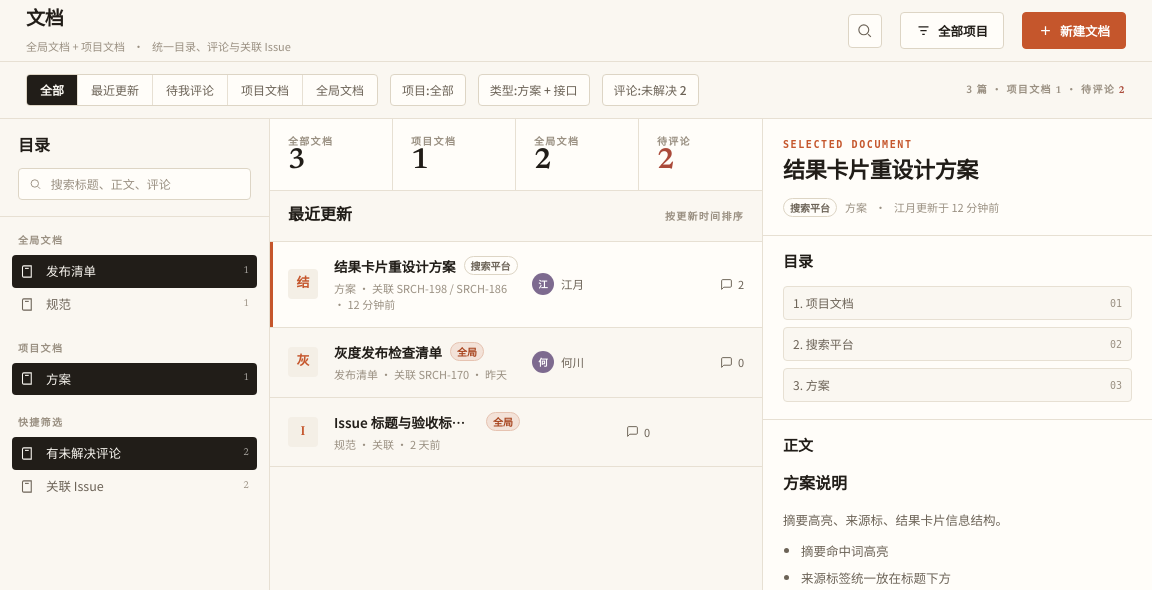
Test case: DocsPage › selects documents from the list and directory tree
Step 1. Click the button with aria-label "打开文档 灰度发布检查清单" → (388, 352), box x1=270 y1=328 x2=762 y2=398
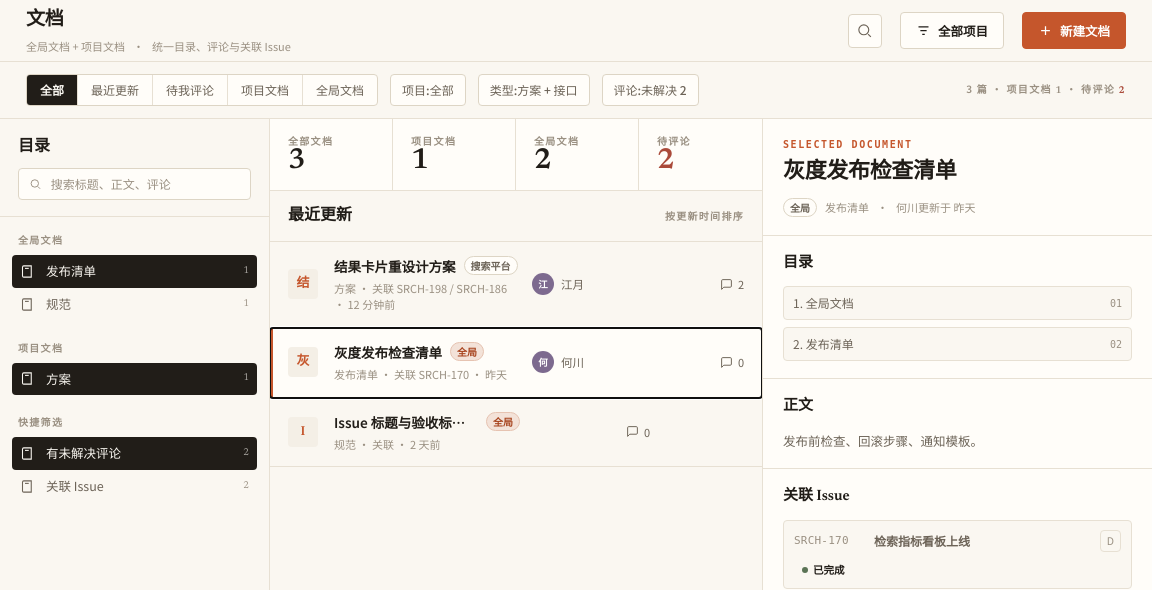
Expected: the heading "灰度发布检查清单" is shown, x1=783 y1=162 x2=956 y2=184
Expected: the text "发布前检查、回滚步骤、通知模板。" is shown, x1=783 y1=430 x2=983 y2=450
Step 2. Click the button with aria-label "打开目录 规范" → (134, 304), box x1=12 y1=288 x2=257 y2=321
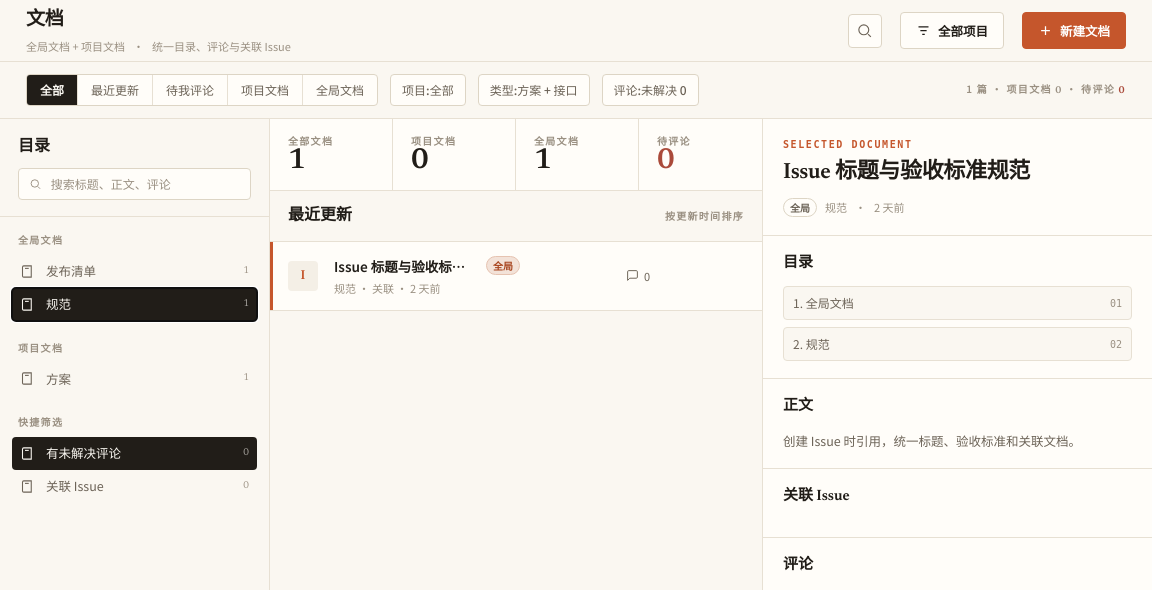
Expected: the heading "Issue 标题与验收标准规范" is shown, x1=783 y1=162 x2=1030 y2=184
